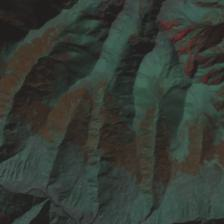landslides: (190, 192, 197, 208)
